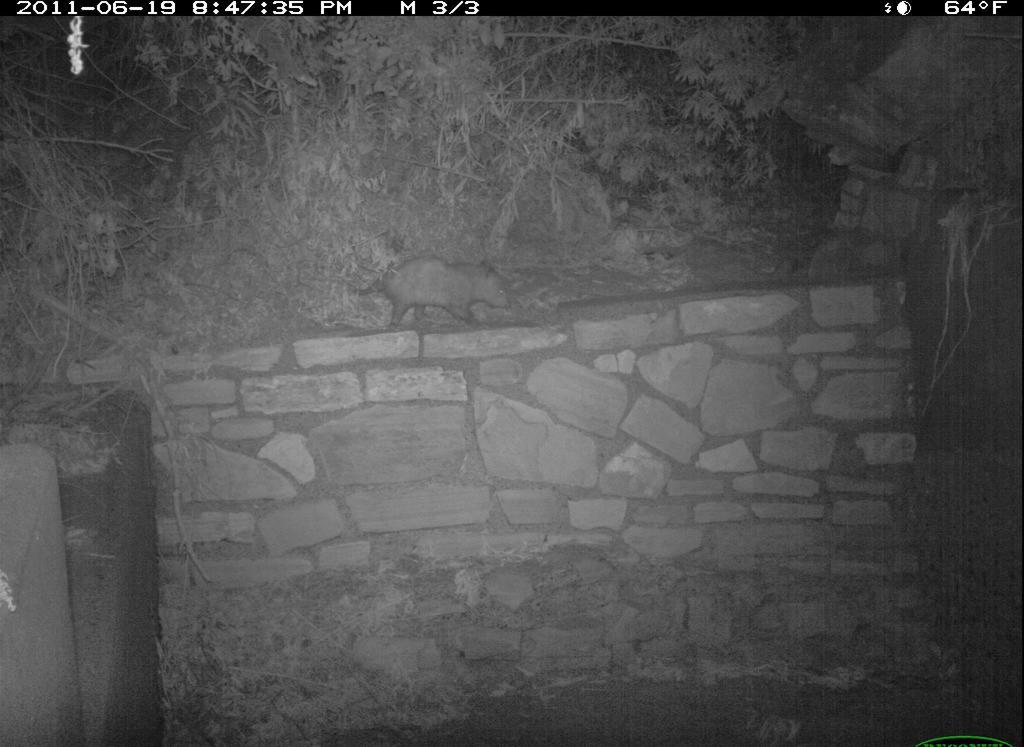opossum: (340, 250, 519, 340)
